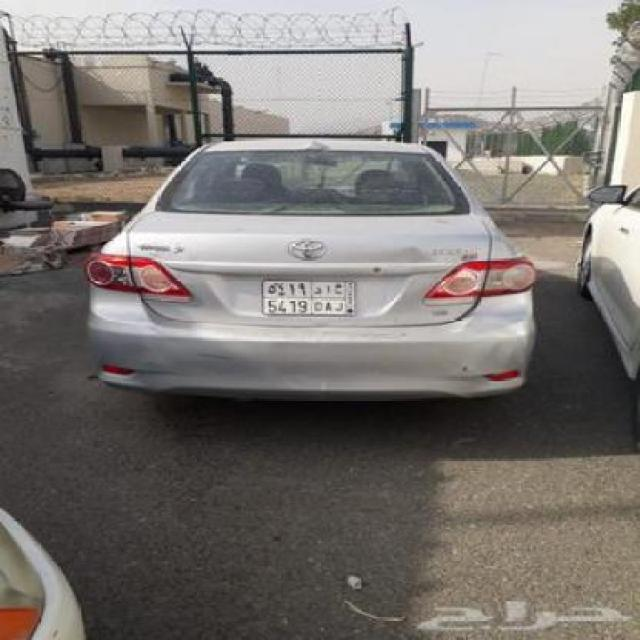license_plate: (259, 278, 358, 317)
